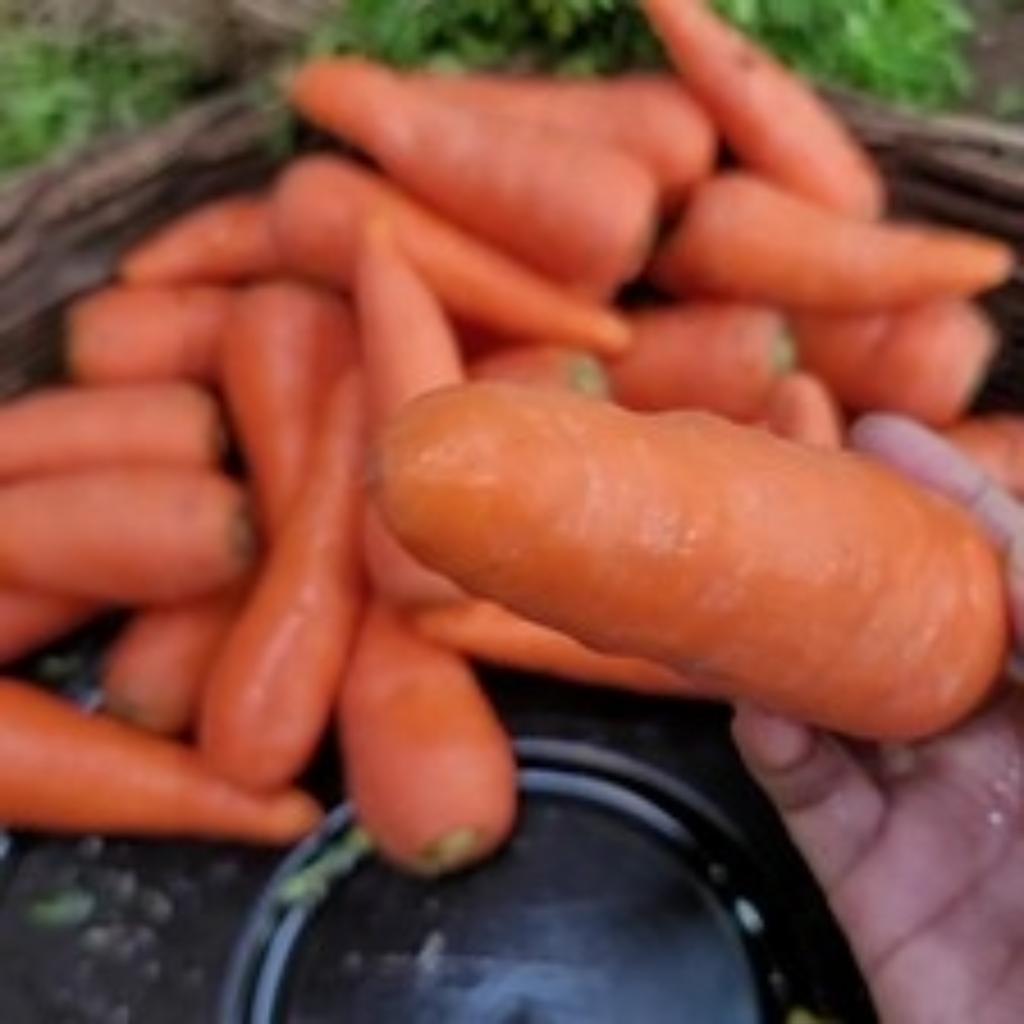carrot: (0, 0, 1015, 864), (370, 379, 997, 727)
